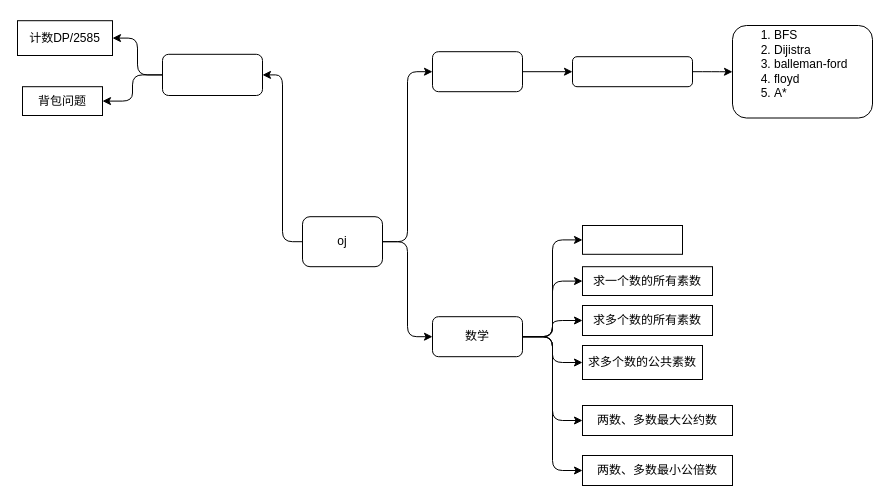
Some shapes in this 890 by 504 pixel diagram are drawn without their labels. Each missing label, with the centre of its shape:
DP: the point at 212,74
graph: the point at 477,71
判断是否是素数: the point at 632,239
最短路: the point at 632,71
